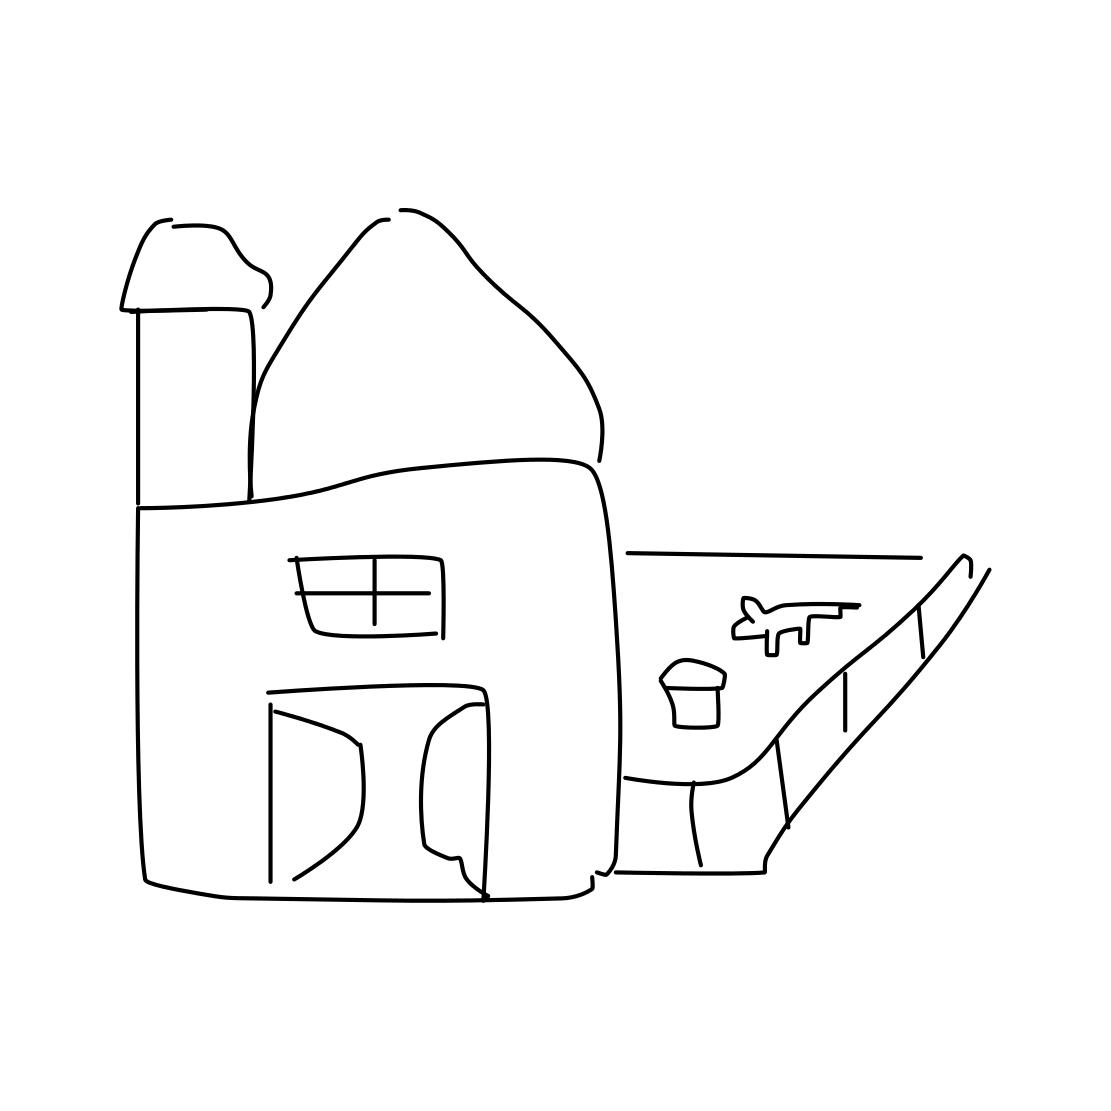House: (109, 185, 643, 920)
